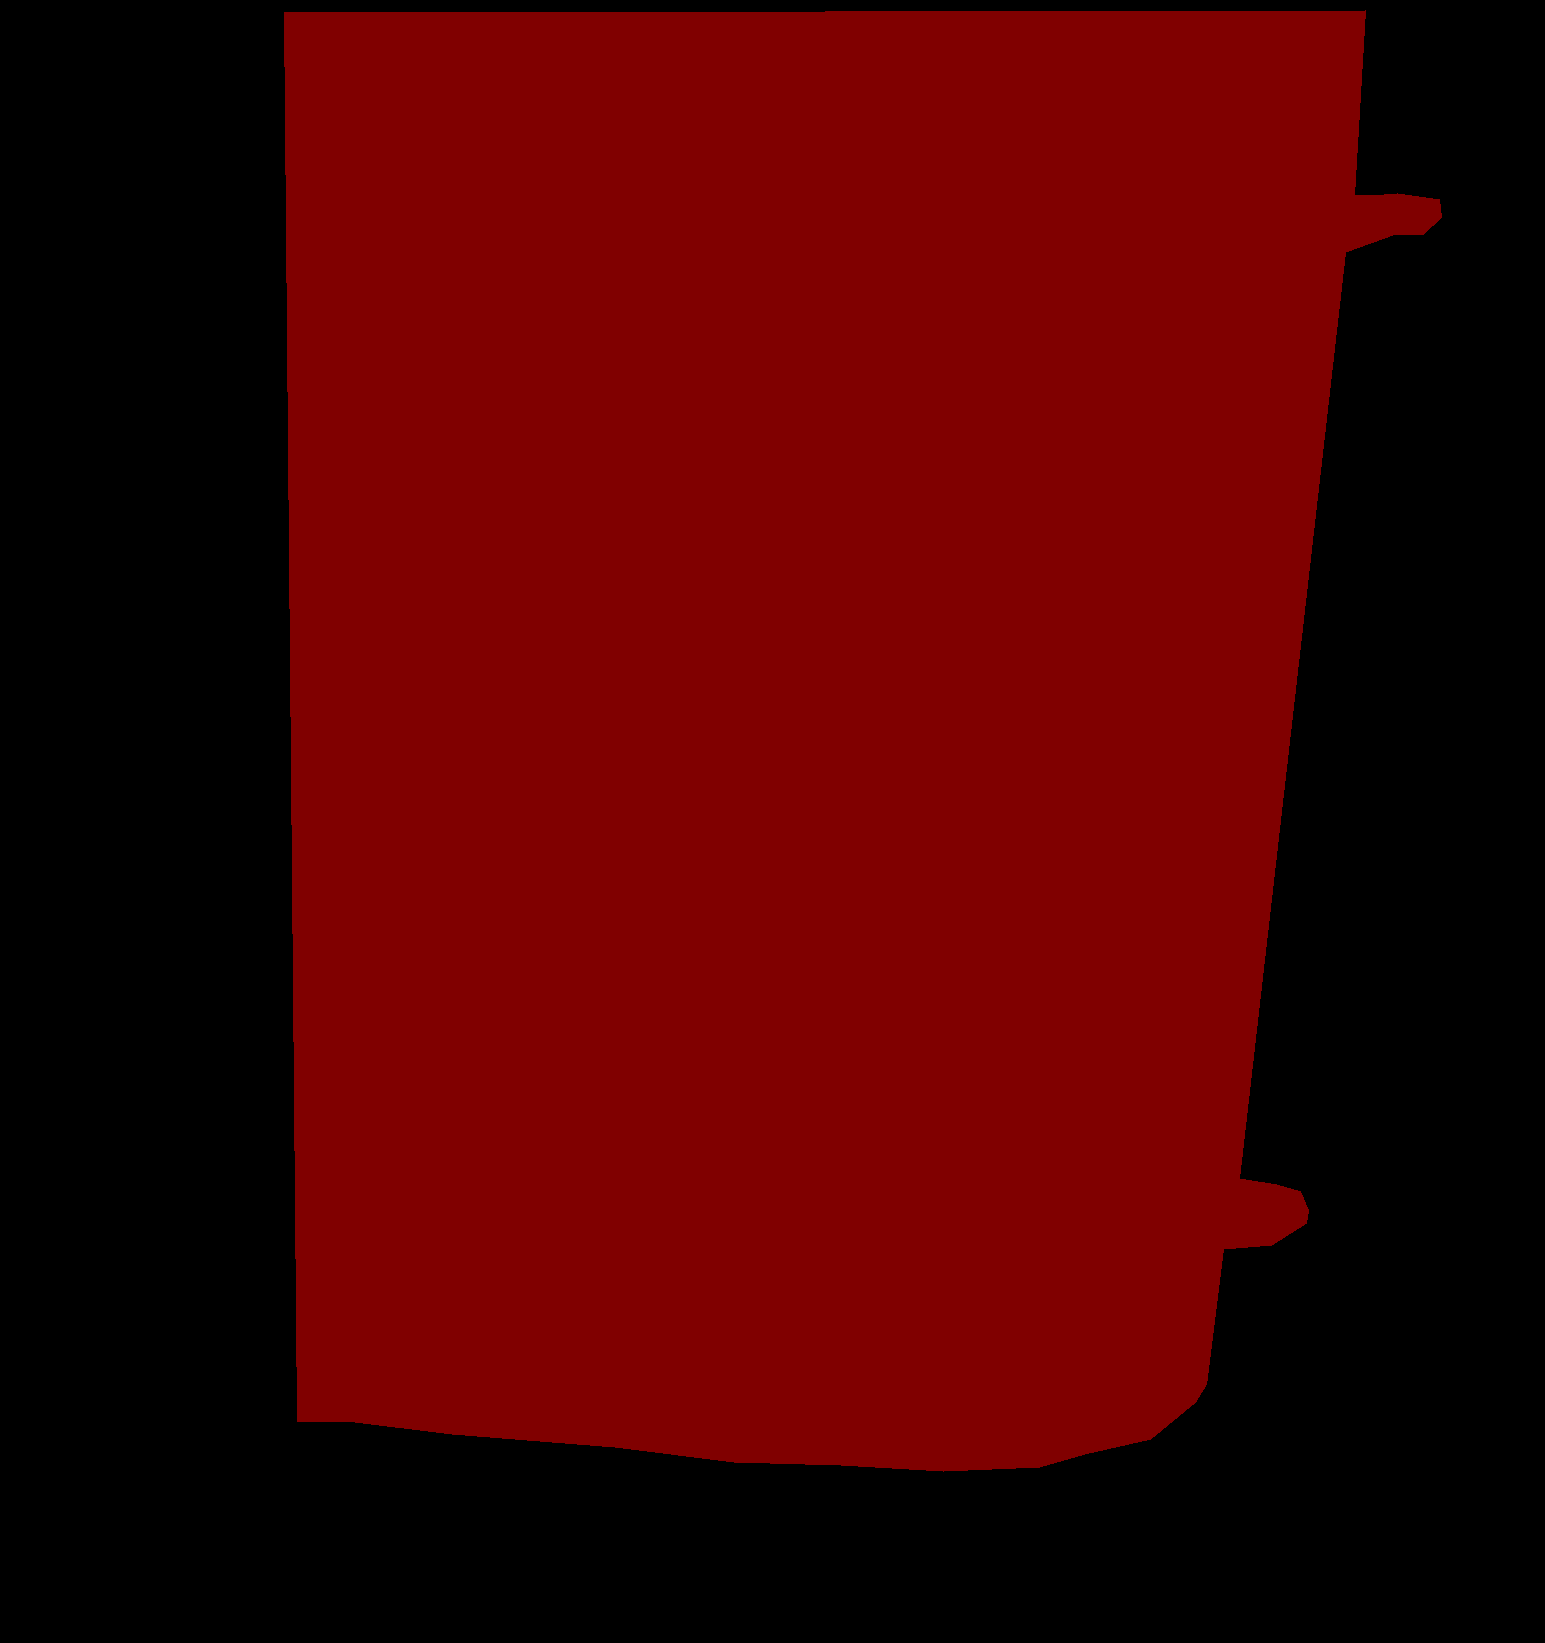sign: (285, 10, 1440, 1470)
